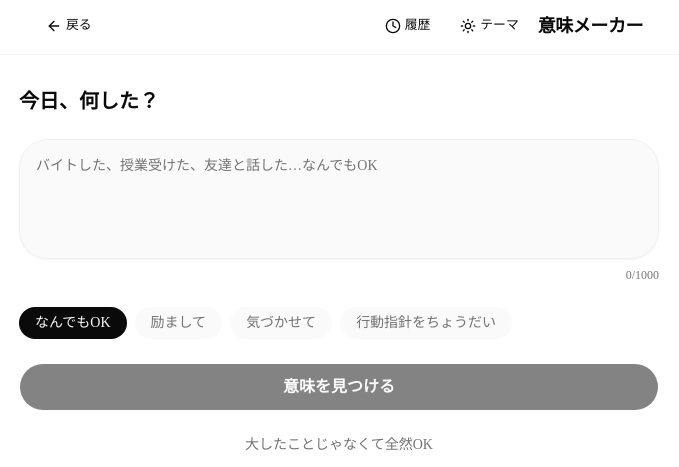
it: InputPage › should show loading state during submission
Type "バイトした" into the text box named "今日やったこと".
click(339, 199); type("バイトした")  # box [19,139,659,259]
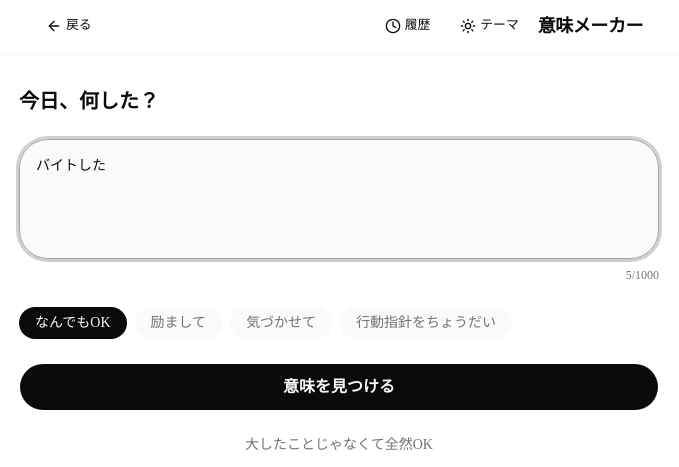
Click the button "意味を見つける".
click(339, 387)  # box [19,363,659,411]
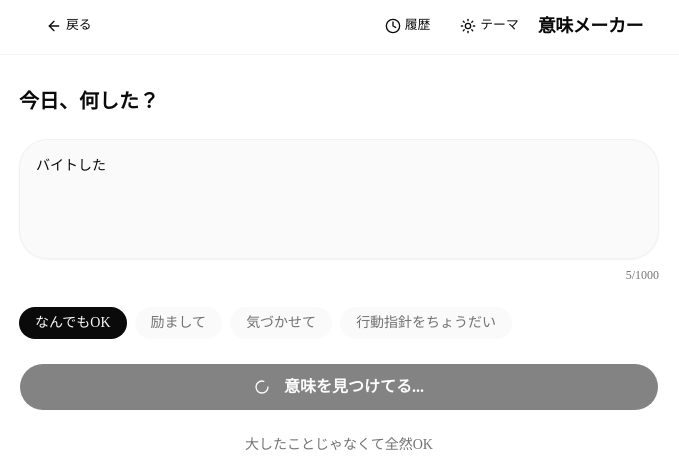
Check: the button "意味を見つけてる..." is disabled, box [19,363,659,411]
